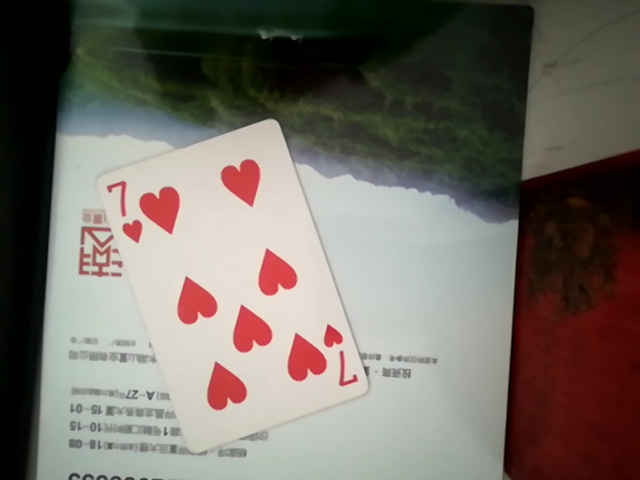hx 7: (81, 115, 371, 456)
